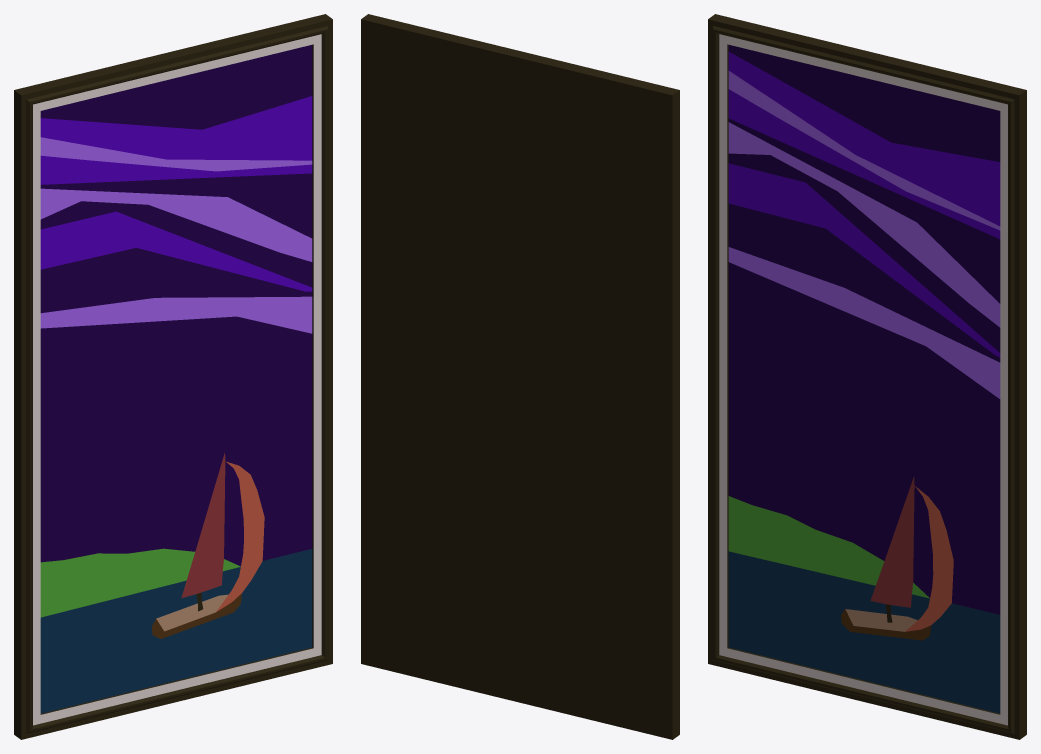
File: Prop_Paint_04.fbx
The picture shows the model from 3 angles, left to right: view 1: azimuth 30°, elevation 25°; view 2: azimuth 150°, elevation 25°; view 3: azimuth 330°, elevation 25°; orthographic projection.
Visible parts, largest first — view 1: Prop_Paint_04; view 2: Prop_Paint_04; view 3: Prop_Paint_04.
Boxes of the visible parts, x1,y1,x2,y2 form: Prop_Paint_04: (14, 14, 332, 739); Prop_Paint_04: (361, 14, 679, 739); Prop_Paint_04: (708, 14, 1026, 739).
Size of the model in its own units: 60 by 119 by 2.95.
